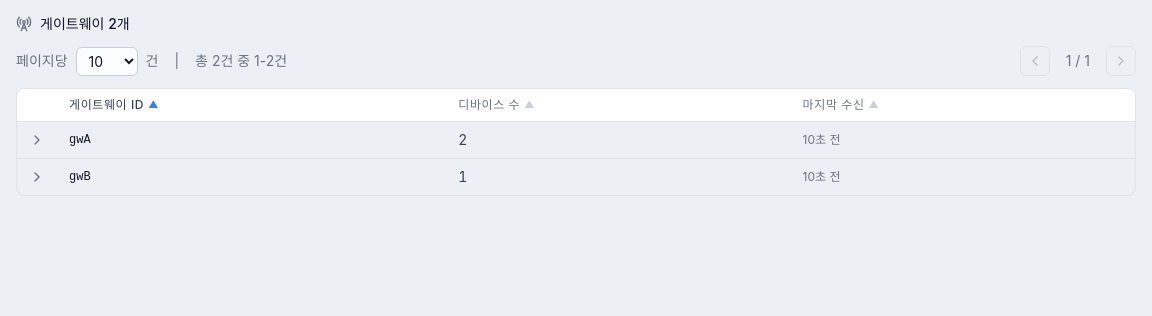
Test case: ChirpstackGatewaysTab 로스터 렌더 › 게이트웨이 행을 펼치면 연결 디바이스 서브리스트가 나타난다
expect the text "gwA" is shown: met, box [57, 122, 446, 158]
expect the text "bbbb0002" is not shown: met
Click the button named "디바이스 목록 펼치기" next to "gwA" at (37, 140), box [29, 132, 45, 148]
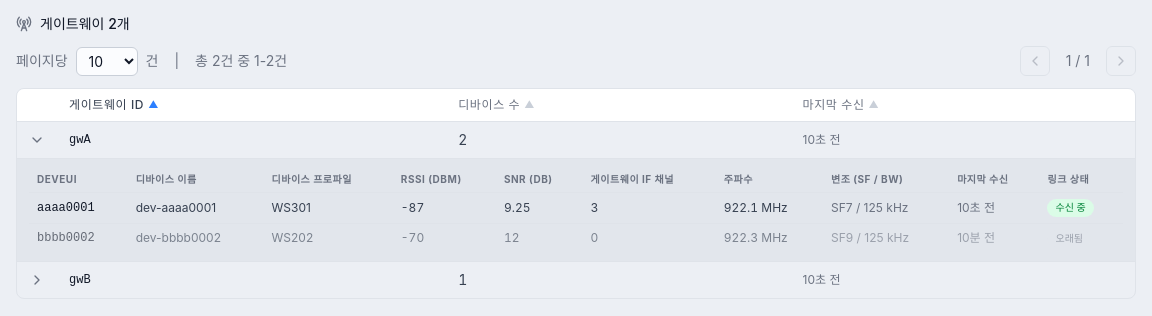
expect the text "bbbb0002" is shown: met, box [29, 223, 128, 253]
expect the text "dev-bbbb0002" is shown: met, box [128, 223, 264, 253]
expect the text "WS301" is shown: met, box [264, 193, 393, 223]
